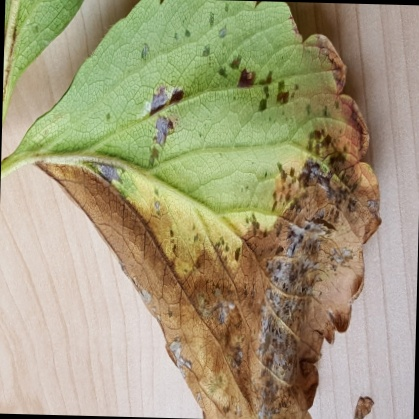Angular_LS: (10, 0, 384, 418)
